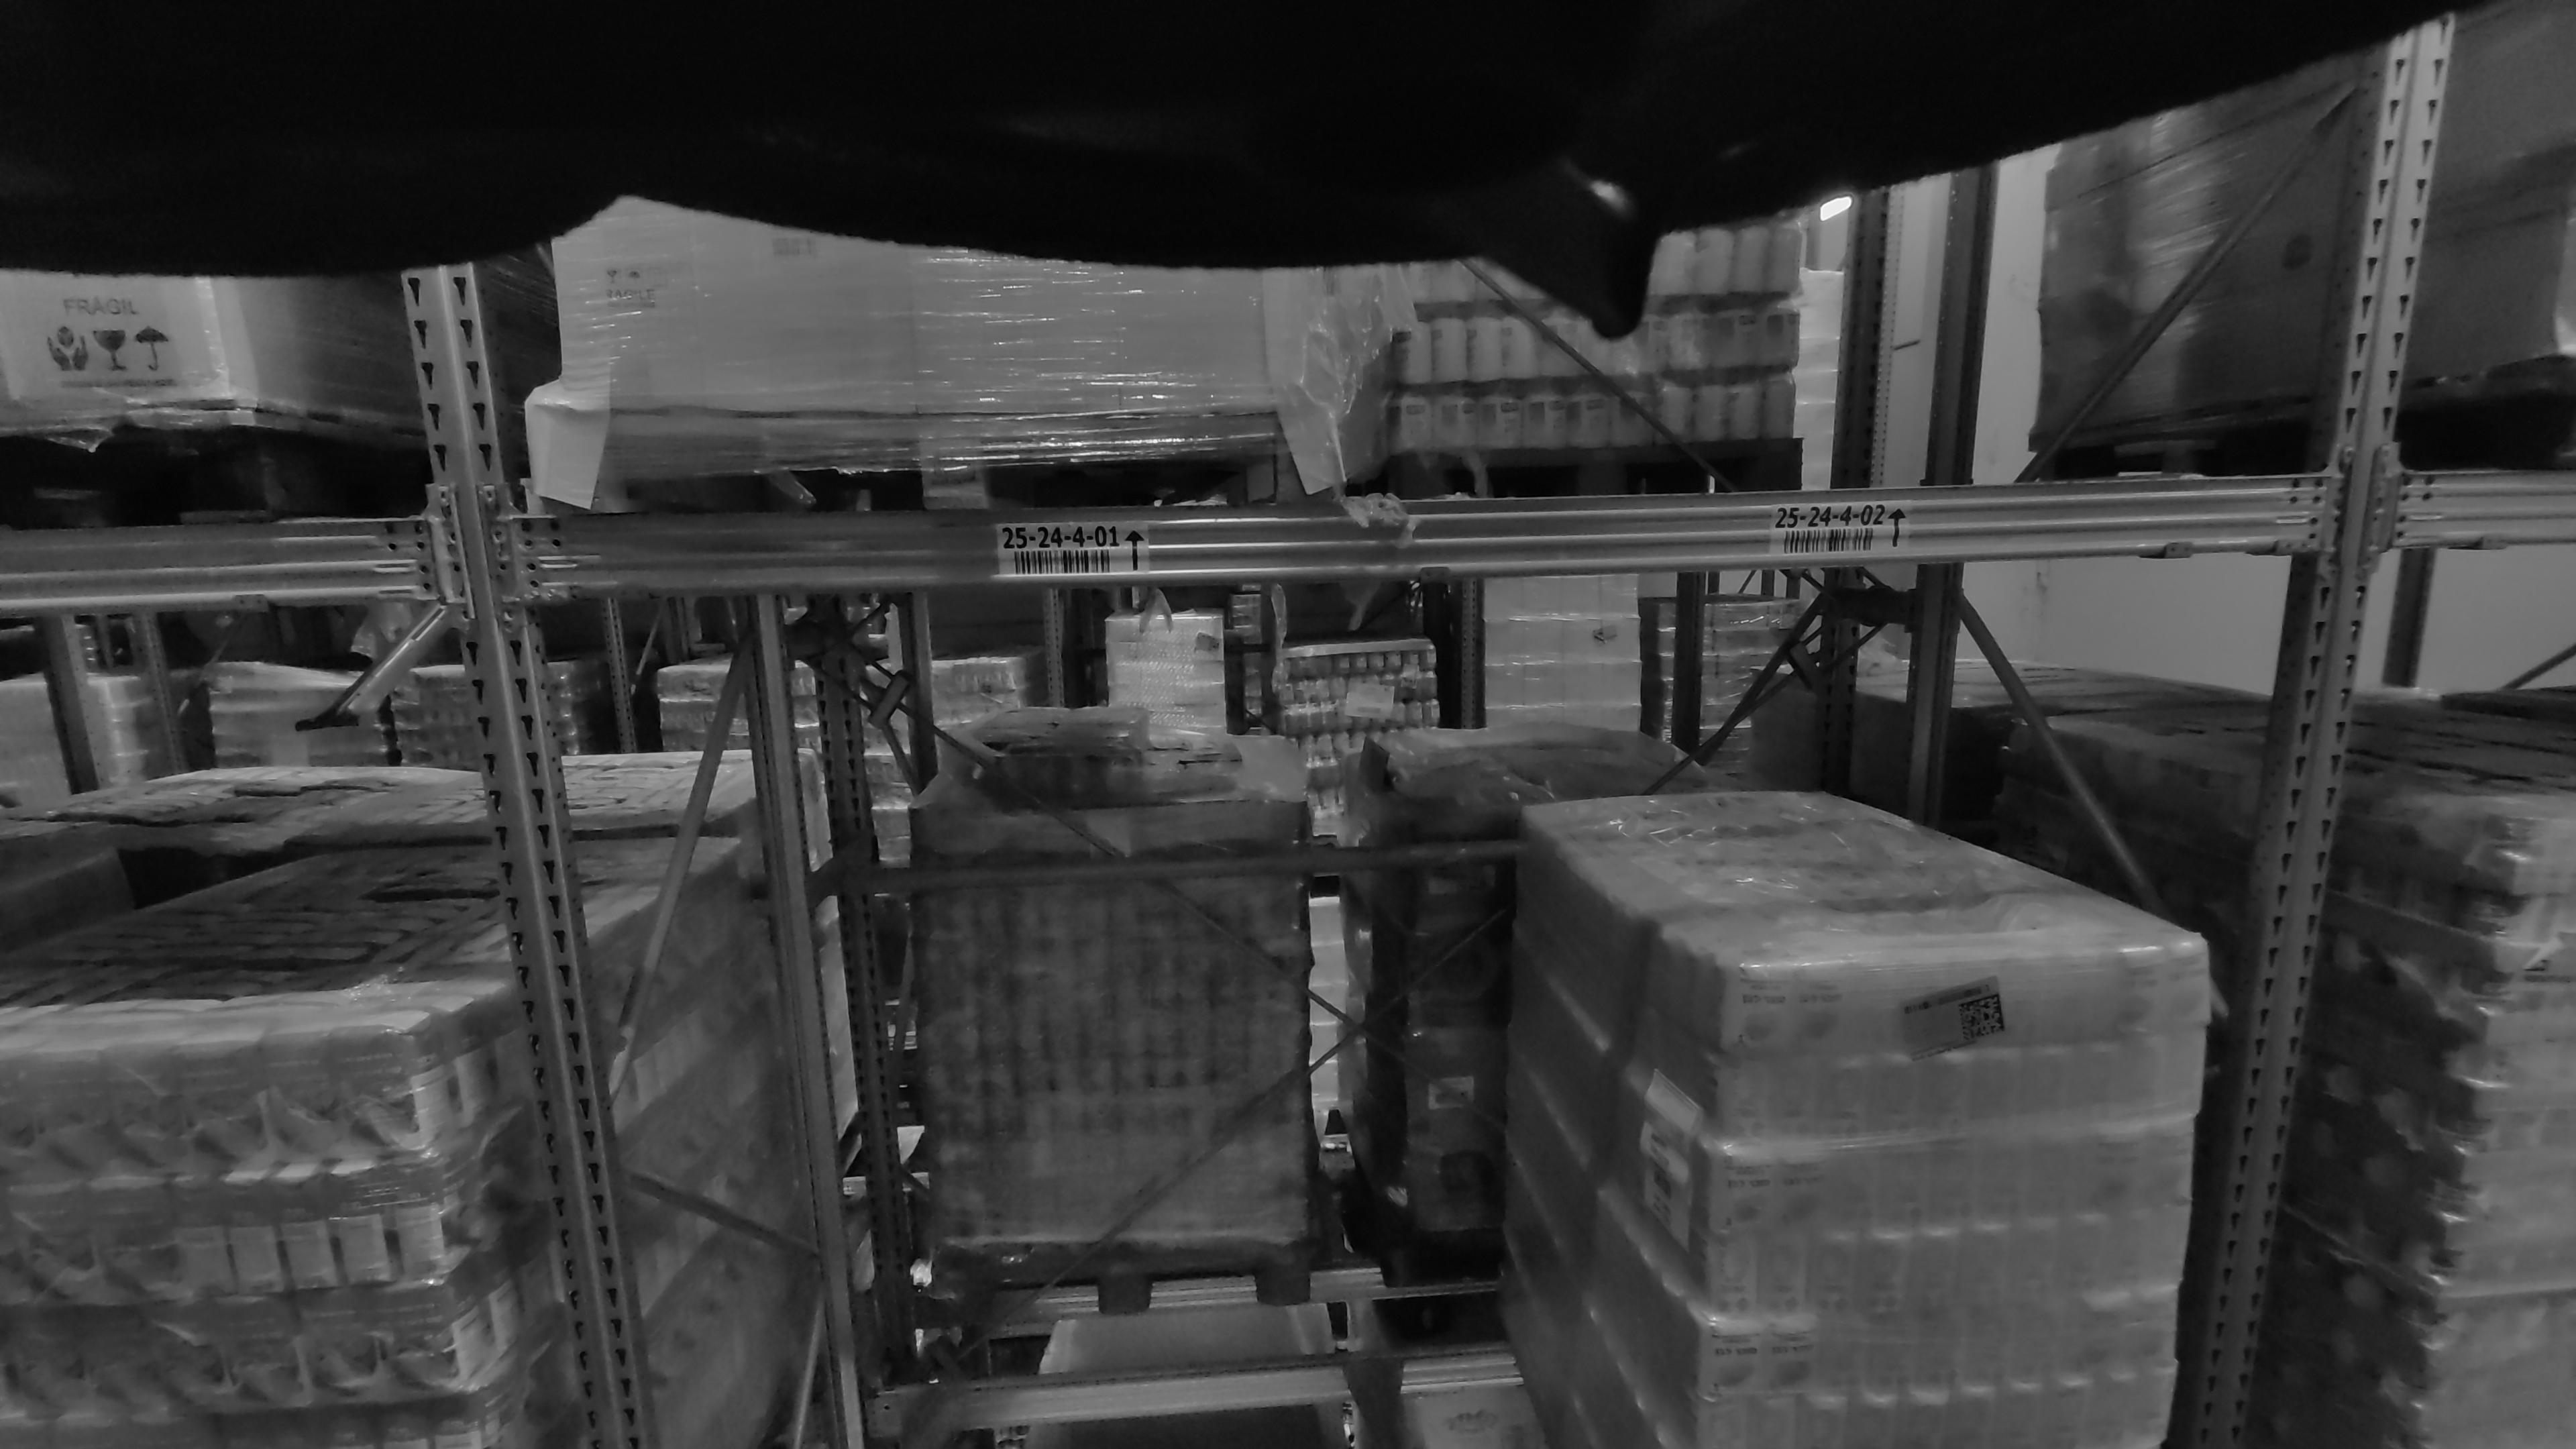empty-shelf: (862, 570, 1442, 1449), (1458, 134, 2192, 485)
